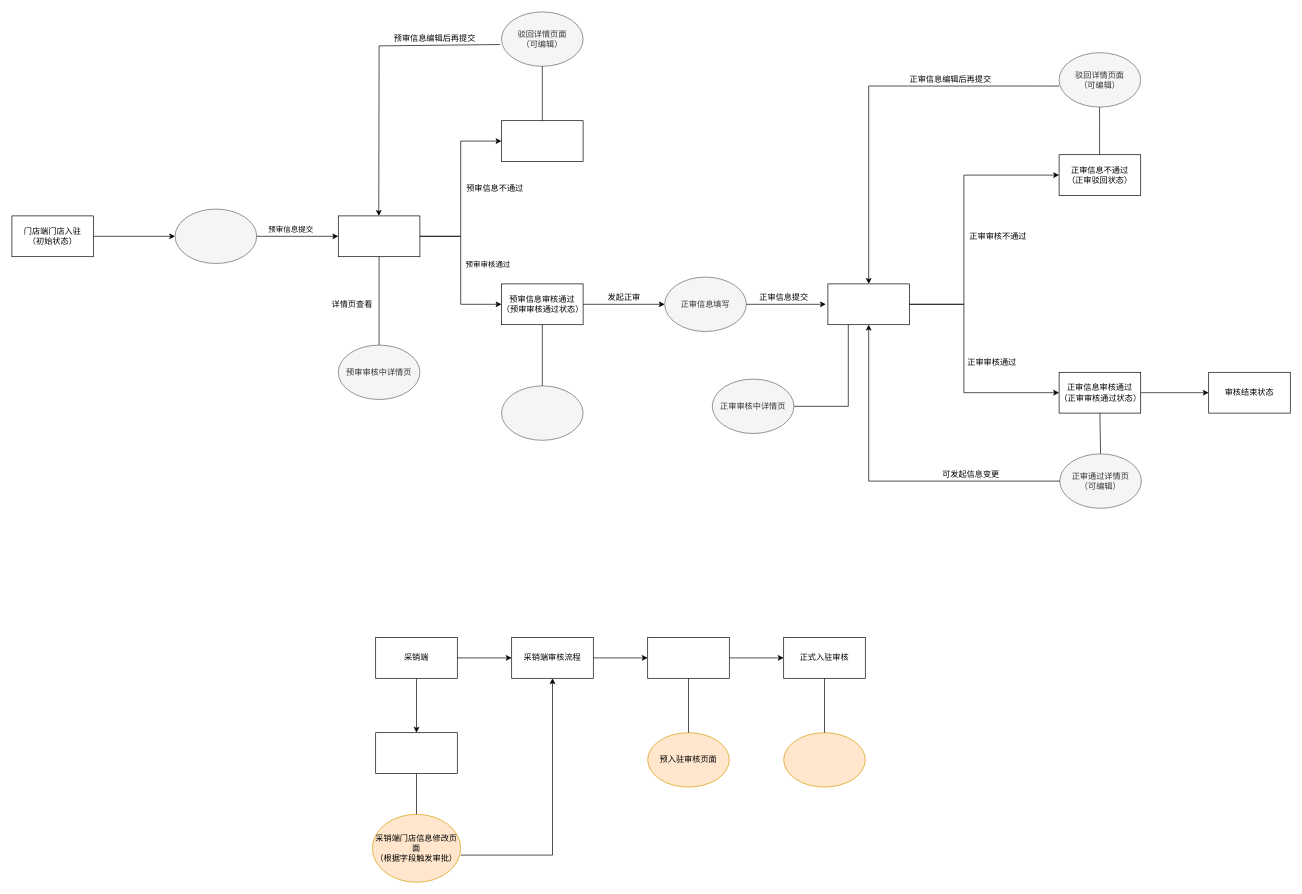
Some shapes in this 1302 by 894 pixel diagram are drawn without their labels. The shapes that lost their labels are listed below. From the top down, each one's centre as x and y in pixels, then its label:
(x=542, y=141): 预审信息不通过 （预审驳回状态）
(x=215, y=236): 预审信息填写
(x=379, y=236): 预审信息审核 （待审核状态）
(x=868, y=304): 正审信息 （正审审核状态）
(x=542, y=412): 审核通过详情页
(x=688, y=657): 预入驻审核
(x=416, y=753): 采销端门店信息修改
(x=824, y=759): 正式入驻审核页面 （含预审tab对比）
